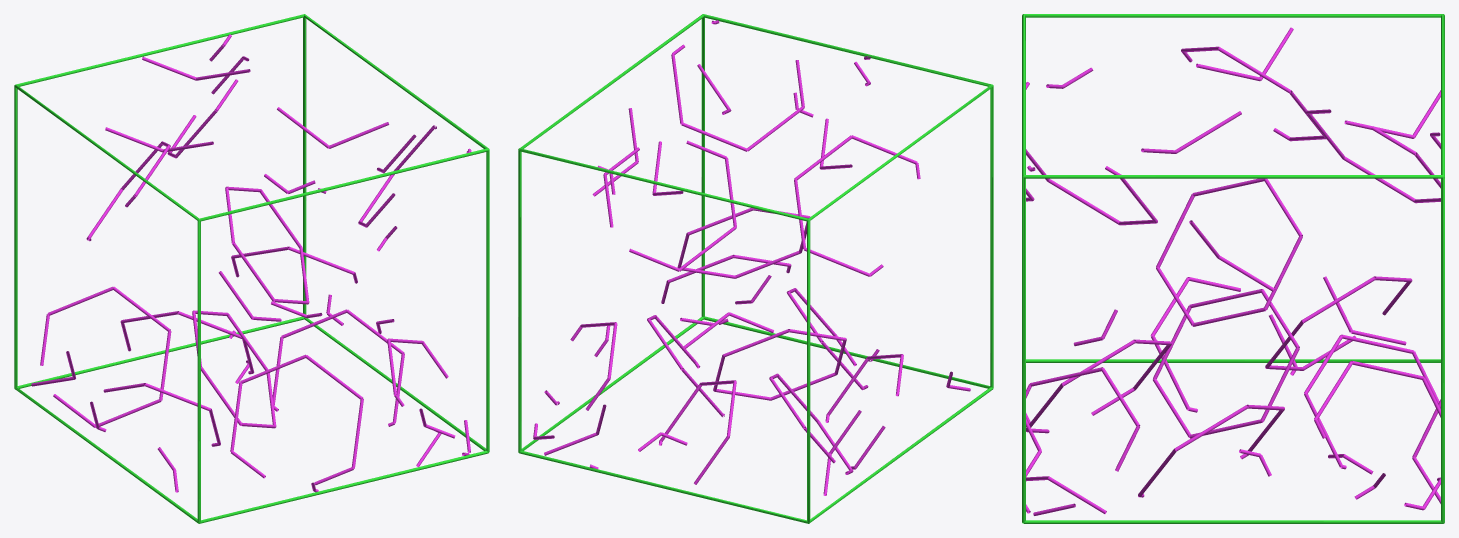
The model's file is DDD000.glb.
The picture shows the model from 3 angles, left to right: view 1: azimuth 30°, elevation 25°; view 2: azimuth 150°, elevation 25°; view 3: azimuth 270°, elevation 25°; orthographic projection. The views are drawn at different scales.
Parts seen in each view (by area): view 1: Shape_IndexedLineSet.001, Shape_IndexedLineSet; view 2: Shape_IndexedLineSet.001, Shape_IndexedLineSet; view 3: Shape_IndexedLineSet.001, Shape_IndexedLineSet.
Boxes of the visible parts, x1=… form: Shape_IndexedLineSet.001: x1=31, y1=34, x2=471, y2=492; Shape_IndexedLineSet: x1=14, y1=14, x2=489, y2=523; Shape_IndexedLineSet.001: x1=533, y1=20, x2=970, y2=495; Shape_IndexedLineSet: x1=518, y1=14, x2=993, y2=523; Shape_IndexedLineSet.001: x1=1025, y1=27, x2=1440, y2=515; Shape_IndexedLineSet: x1=1022, y1=14, x2=1444, y2=523.
Size of the model in its own units: 10.1 by 10.1 by 11.1.
